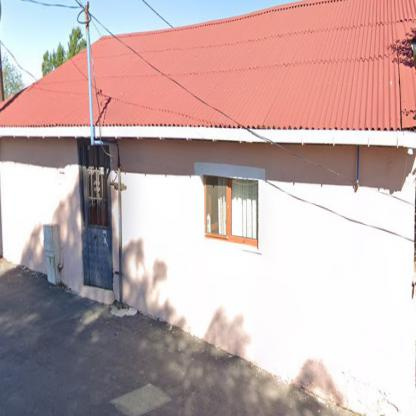door: (80, 144, 112, 288)
window: (206, 176, 258, 242)
